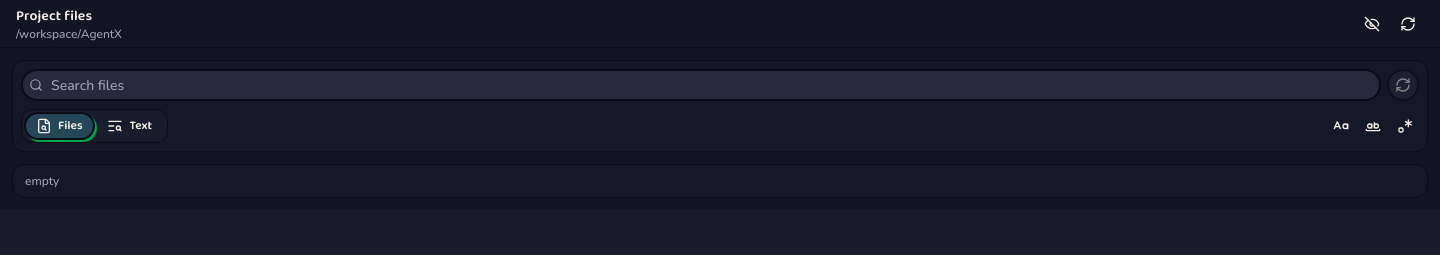
Test: WorkspaceFileEditorPane markdown controls › handles null search results defensively
Type "missing" into the field named "Search project files" at (701, 85), box [21,69,1381,101]
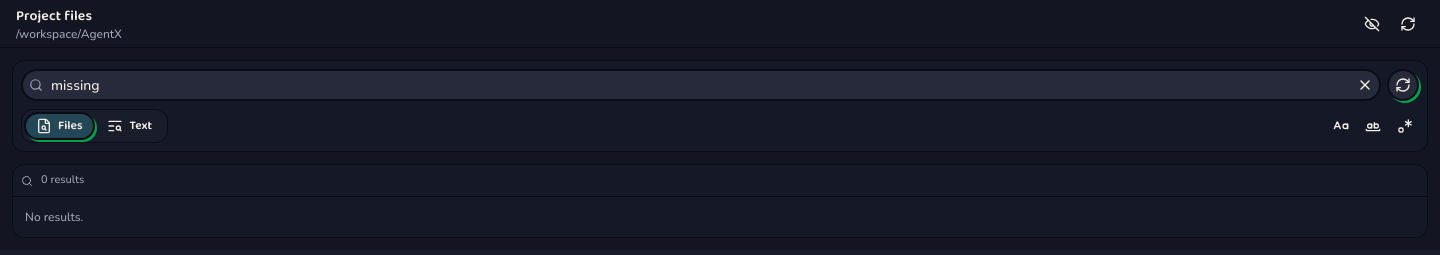
Result: the text "0 results" is shown at [41,172,84,187]
Result: the text "No results." is shown at [25,209,83,225]
